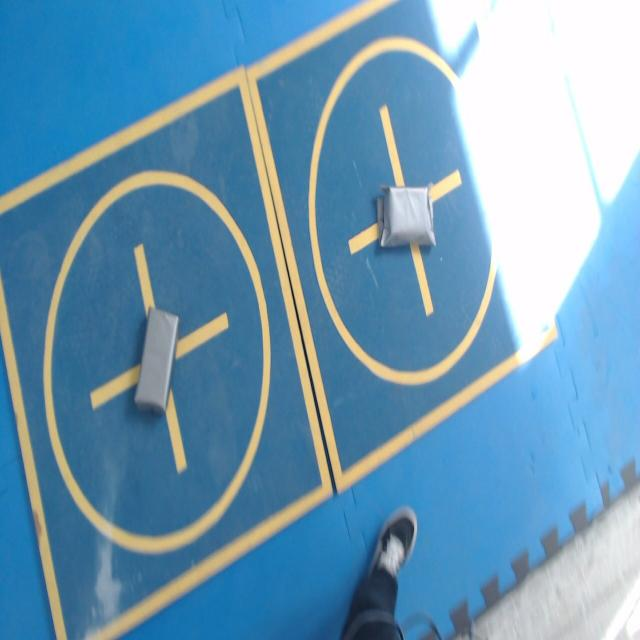lipo: (135, 306, 179, 412), (378, 185, 436, 246)
